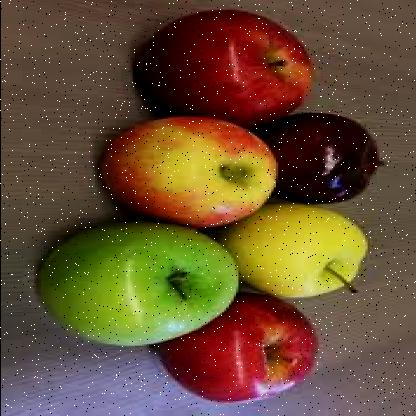apple: (59, 217, 237, 340), (108, 122, 280, 224), (158, 9, 304, 127), (170, 298, 324, 396), (235, 208, 364, 302), (274, 108, 378, 204)
